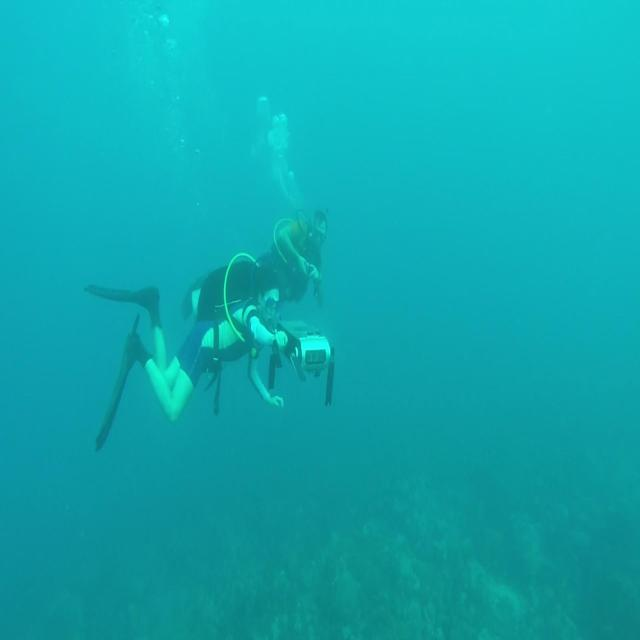human: (84, 259, 288, 452), (178, 200, 336, 333)
